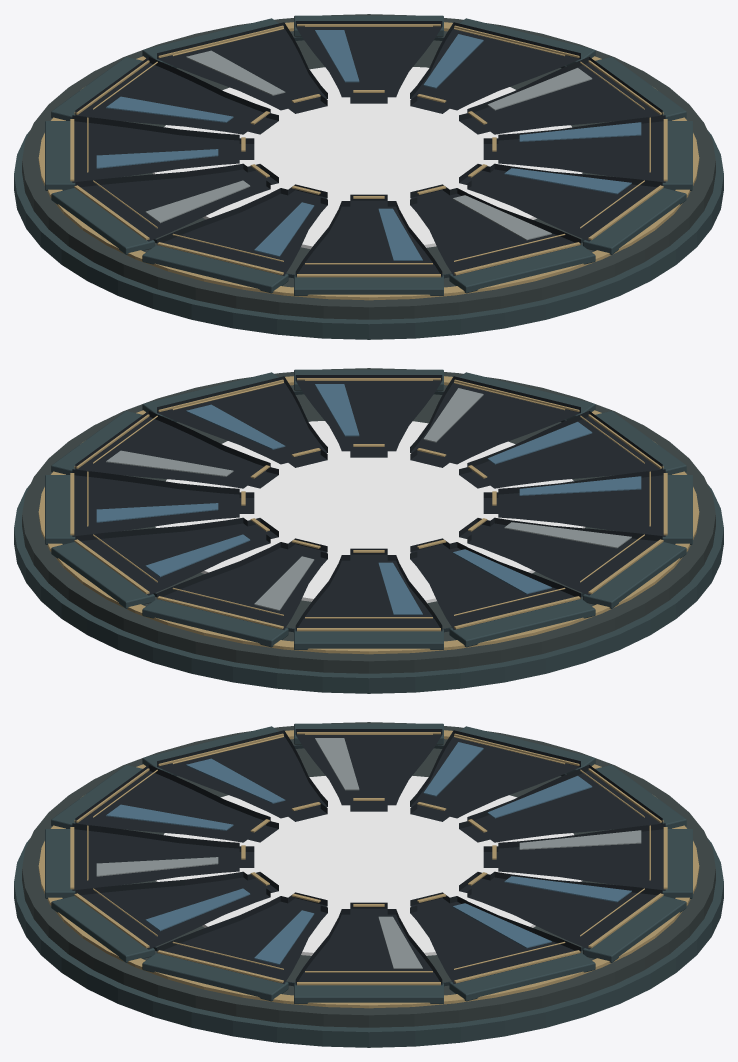
The model's file is palimpsest-f10-challenger.glb.
3 renders of one model, top to bottom at view 1: azimuth 30°, elevation 25°; view 2: azimuth 150°, elevation 25°; view 3: azimuth 270°, elevation 25°, orthographic.
Visible parts, largest first — view 1: F10_A_RECEIVER_CORE, F10_A_DIE_CUT_PLATE, F10_A_SUPPORT, F10_A_LEAF_01, F10_A_LEAF_05, F10_A_LEAF_12, F10_A_LEAF_06, F10_A_LEAF_07, F10_A_LEAF_11, F10_A_LEAF_02, F10_A_LEAF_04, F10_A_LEAF_08 (+43 smaller); view 2: F10_A_RECEIVER_CORE, F10_A_DIE_CUT_PLATE, F10_A_SUPPORT, F10_A_LEAF_09, F10_A_LEAF_01, F10_A_LEAF_08, F10_A_LEAF_02, F10_A_LEAF_03, F10_A_LEAF_07, F10_A_LEAF_10, F10_A_LEAF_12, F10_A_LEAF_04 (+43 smaller); view 3: F10_A_RECEIVER_CORE, F10_A_DIE_CUT_PLATE, F10_A_SUPPORT, F10_A_LEAF_05, F10_A_LEAF_09, F10_A_LEAF_04, F10_A_LEAF_10, F10_A_LEAF_11, F10_A_LEAF_03, F10_A_LEAF_06, F10_A_LEAF_08, F10_A_LEAF_12 (+43 smaller).
Part boxes in pixels (x1,y1,x2,y2): F10_A_RECEIVER_CORE: [152, 67, 582, 249]; F10_A_DIE_CUT_PLATE: [22, 14, 715, 319]; F10_A_SUPPORT: [14, 131, 723, 339]; F10_A_LEAF_01: [459, 57, 662, 134]; F10_A_LEAF_05: [75, 57, 278, 134]; F10_A_LEAF_12: [483, 115, 665, 182]; F10_A_LEAF_06: [72, 115, 254, 182]; F10_A_LEAF_07: [75, 163, 278, 241]; F10_A_LEAF_11: [459, 163, 662, 241]; F10_A_LEAF_02: [410, 22, 580, 113]; F10_A_LEAF_04: [157, 22, 327, 113]; F10_A_LEAF_08: [157, 184, 327, 275]; F10_A_RECEIVER_CORE: [155, 421, 585, 603]; F10_A_DIE_CUT_PLATE: [22, 368, 715, 673]; F10_A_SUPPORT: [14, 485, 723, 693]; F10_A_LEAF_09: [459, 411, 662, 488]; F10_A_LEAF_01: [75, 411, 278, 488]; F10_A_LEAF_08: [483, 469, 665, 536]; F10_A_LEAF_02: [72, 469, 254, 536]; F10_A_LEAF_03: [75, 517, 278, 595]; F10_A_LEAF_07: [459, 517, 662, 595]; F10_A_LEAF_10: [410, 376, 580, 467]; F10_A_LEAF_12: [157, 376, 327, 467]; F10_A_LEAF_04: [157, 538, 327, 629]; F10_A_RECEIVER_CORE: [155, 776, 582, 955]; F10_A_DIE_CUT_PLATE: [22, 722, 715, 1027]; F10_A_SUPPORT: [14, 839, 723, 1047]; F10_A_LEAF_05: [459, 765, 662, 842]; F10_A_LEAF_09: [75, 765, 278, 842]; F10_A_LEAF_04: [483, 823, 665, 890]; F10_A_LEAF_10: [72, 823, 254, 890]; F10_A_LEAF_11: [75, 871, 278, 949]; F10_A_LEAF_03: [459, 871, 662, 949]; F10_A_LEAF_06: [410, 730, 580, 821]; F10_A_LEAF_08: [157, 730, 327, 821]; F10_A_LEAF_12: [157, 892, 327, 983].
Size of the model in its own units: 2.01 by 0.144 by 2.01.
